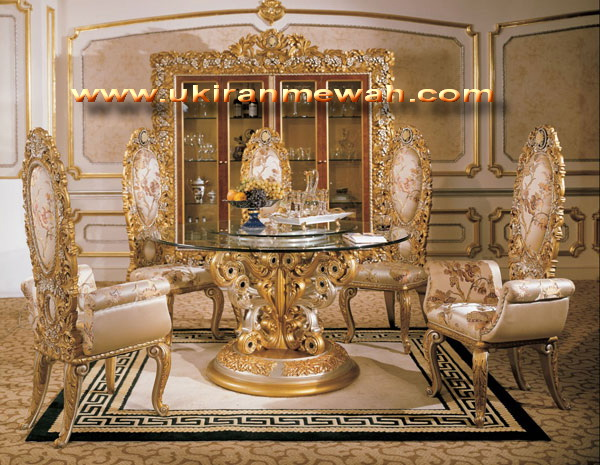Carving Table: (170, 226, 404, 395)
